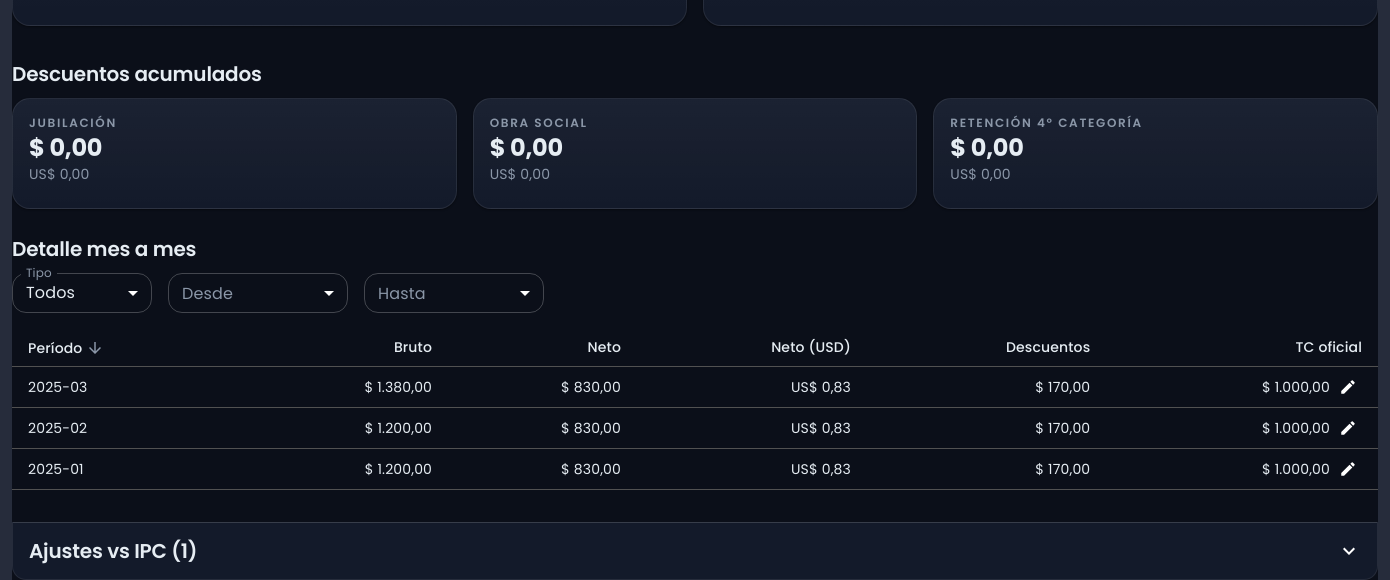
Test: PayslipsPage ajustes por IPC › un ajuste por debajo del IPC se marca como Debajo
(page scrolled)
Click the button "Ajustes vs IPC (1)" at {"x": 105, "y": 551}, box [13,523,1377,579]
(page scrolled)
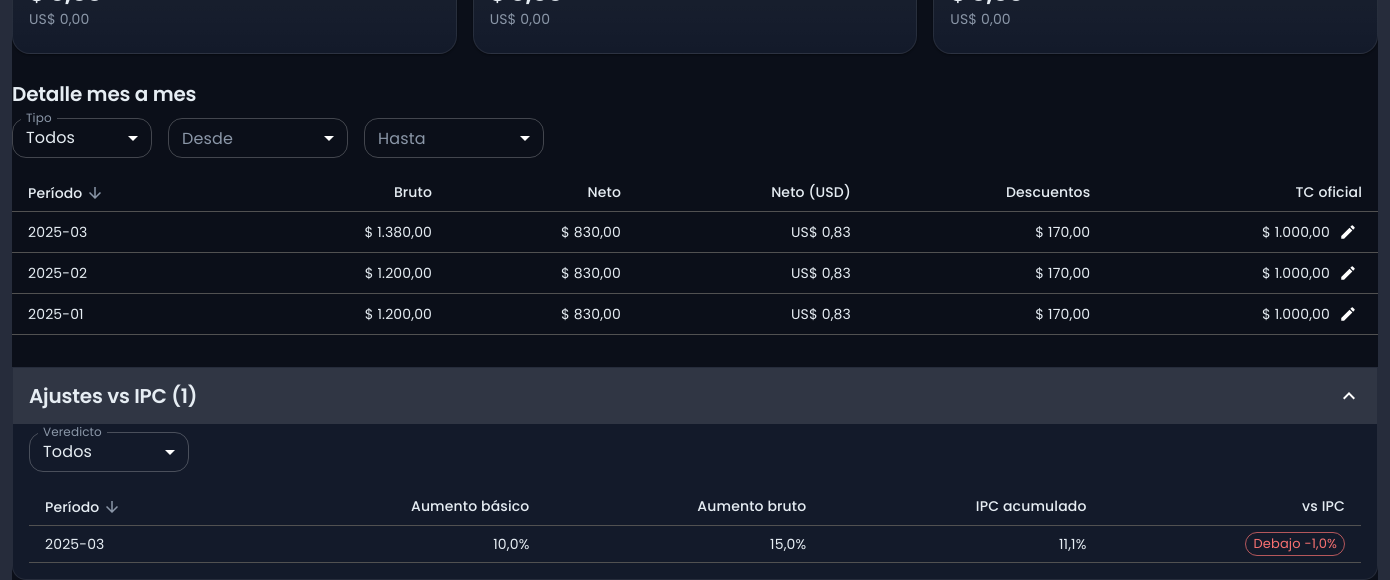
Now the text "Debajo −1,0%" is shown, box [1246,534,1344,553]
